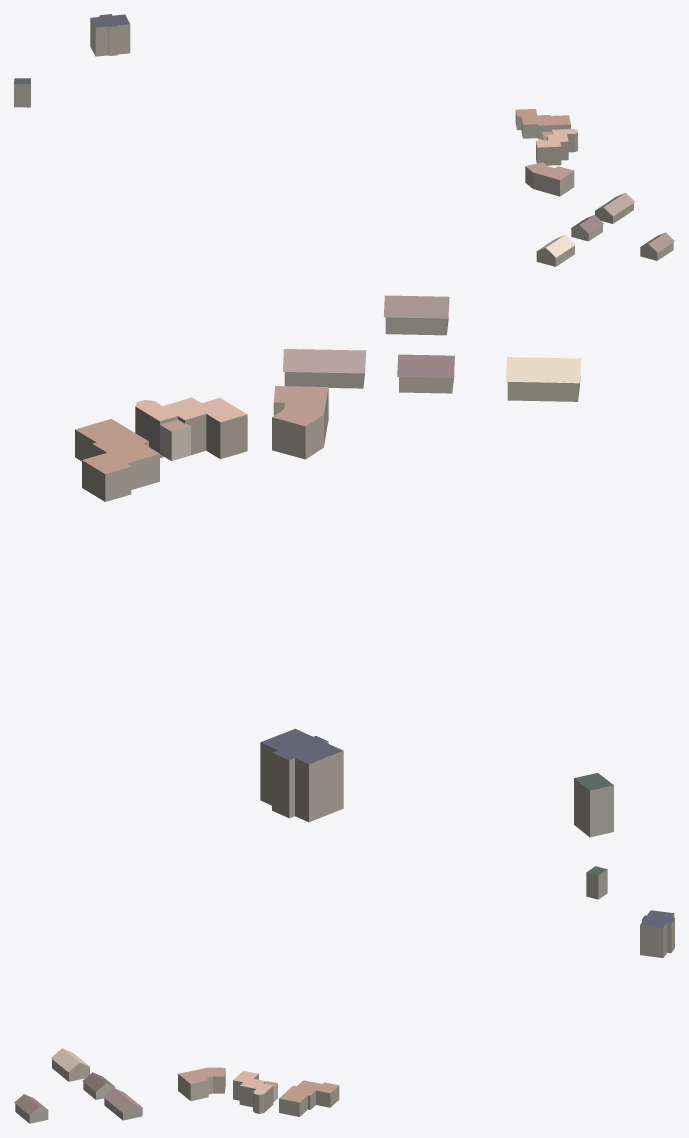
3 renders of one model, top to bottom at view 1: azimuth 30°, elevation 25°; view 2: azimuth 150°, elevation 25°; view 3: azimuth 270°, elevation 25°, orthographic. The views are drawn at different scales.
Visible parts, largest first — view 1: tuile; view 2: tuile; view 3: tuile.
Part boxes in pixels (x1,y1,x2,y2): tuile: [14, 14, 674, 266]; tuile: [75, 295, 613, 837]; tuile: [14, 866, 674, 1123].
Bounding box in the file's own units: 187 × 30.66 × 251.
